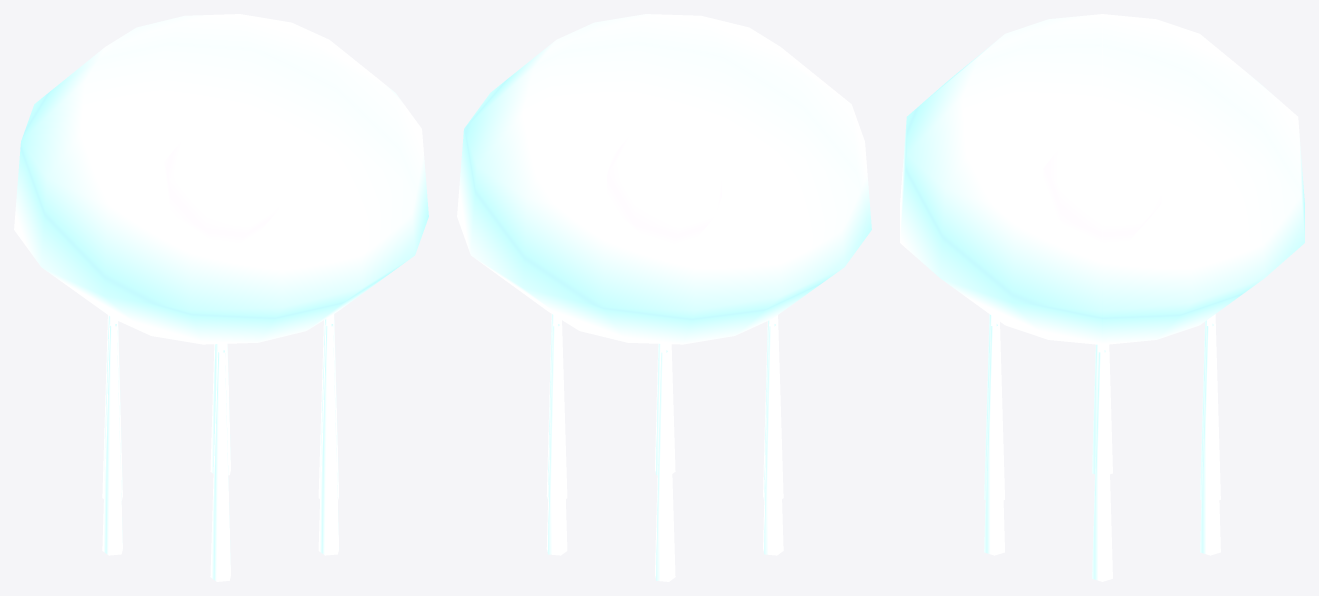
Rendered from creature_floater.glb.
3 views of the same model, side by side, from view 1: azimuth 30°, elevation 25°; view 2: azimuth 150°, elevation 25°; view 3: azimuth 270°, elevation 25° (orthographic).
Visible parts, largest first — view 1: floater_body, tentacle3_m, tentacle4_m, tentacle5_m, tentacle1_m, tentacle0_m, tentacle2_m; view 2: floater_body, tentacle3_m, tentacle2_m, tentacle1_m, tentacle5_m, tentacle0_m, tentacle4_m; view 3: floater_body, tentacle1_m, tentacle5_m, tentacle0_m, tentacle3_m, tentacle2_m, tentacle4_m.
Part boxes in pixels (x1,y1,x2,y2): floater_body: (14,14,428,344); tentacle3_m: (102,323,122,555); tentacle4_m: (210,349,230,581); tentacle5_m: (318,323,339,555); tentacle1_m: (210,343,230,475); tentacle0_m: (318,314,339,499); tentacle2_m: (102,315,122,500); floater_body: (457,14,871,344); tentacle3_m: (763,323,783,555); tentacle2_m: (655,349,675,581); tentacle1_m: (546,323,567,555); tentacle5_m: (655,343,675,475); tentacle0_m: (546,314,567,499); tentacle4_m: (763,315,783,500); floater_body: (900,14,1304,344); tentacle1_m: (1200,323,1220,555); tentacle5_m: (984,323,1004,555); tentacle0_m: (1092,350,1112,581); tentacle3_m: (1092,344,1112,474); tentacle2_m: (1200,314,1220,499); tentacle4_m: (984,314,1004,499).
Size of the model in its own units: 3 by 3.8 by 2.92.
